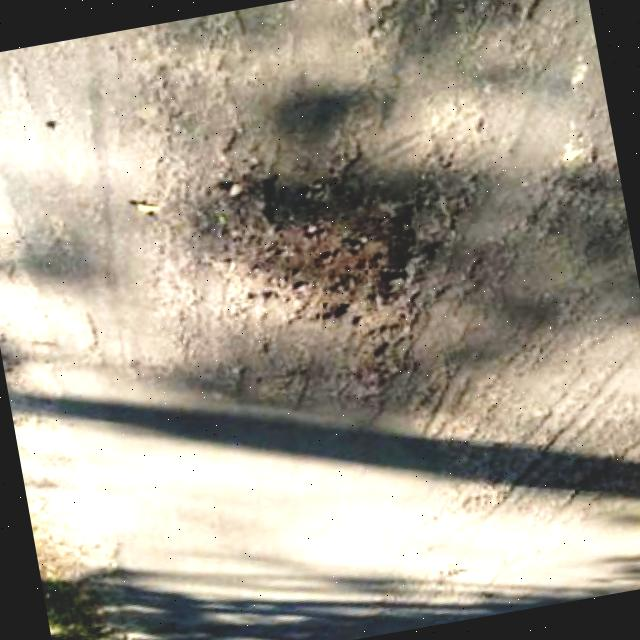pothole: (217, 143, 452, 350)
